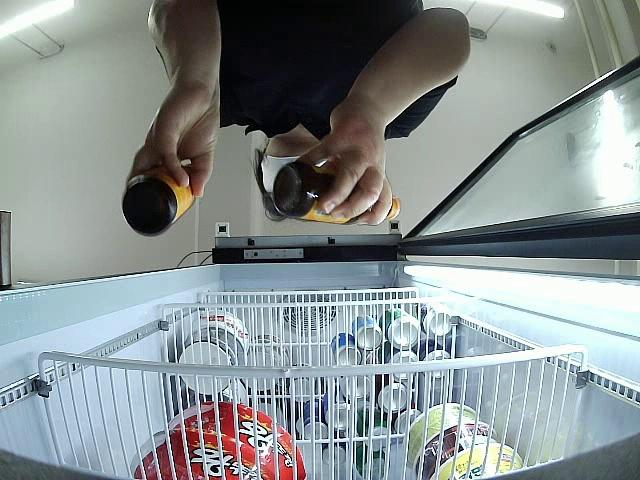00_hand: (294, 101, 393, 226), (123, 81, 222, 199)
17_vita500: (272, 163, 403, 227), (120, 161, 197, 237)
